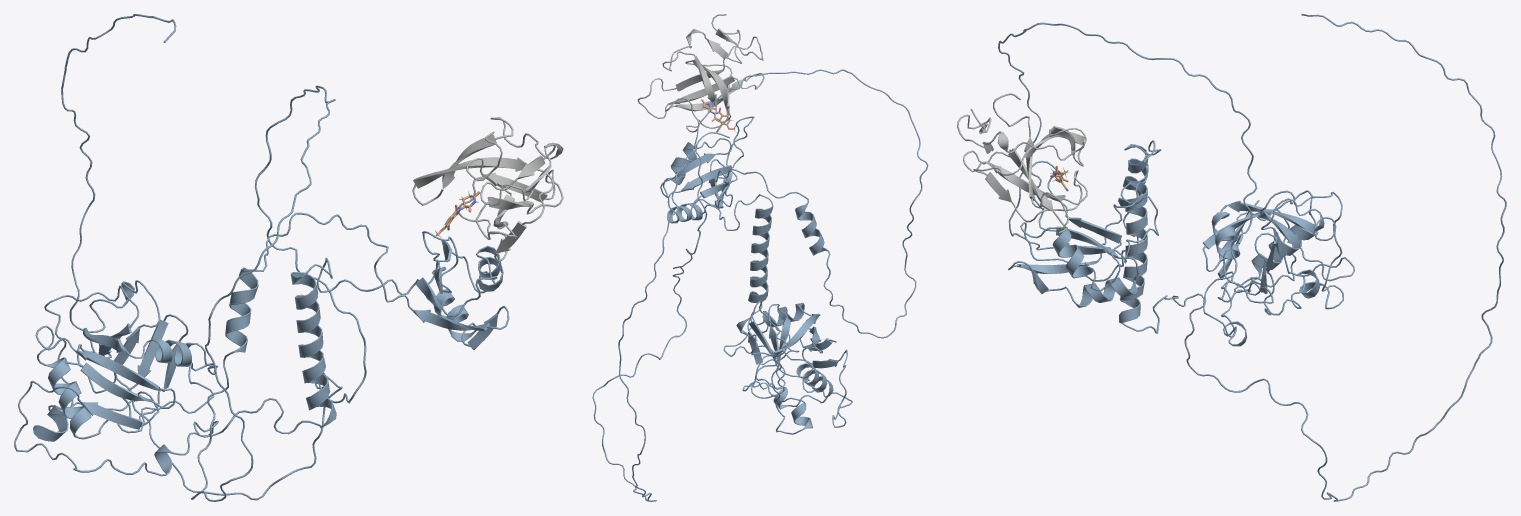
The picture shows the model from 3 angles, left to right: view 1: azimuth 30°, elevation 25°; view 2: azimuth 150°, elevation 25°; view 3: azimuth 270°, elevation 25°; orthographic projection. The views are drawn at different scales.
Visible parts, largest first — view 1: node-geom59, node-geom60; view 2: node-geom59, node-geom60; view 3: node-geom59, node-geom60.
Boxes of the visible parts, x1=… form: node-geom59: x1=14, y1=117, x2=563, y2=476; node-geom60: x1=61, y1=14, x2=509, y2=501; node-geom59: x1=637, y1=14, x2=852, y2=434; node-geom60: x1=592, y1=69, x2=928, y2=501; node-geom59: x1=957, y1=93, x2=1354, y2=346; node-geom60: x1=998, y1=14, x2=1506, y2=501.
Bounding box in the file's own units: 96.72 × 113 × 125.
